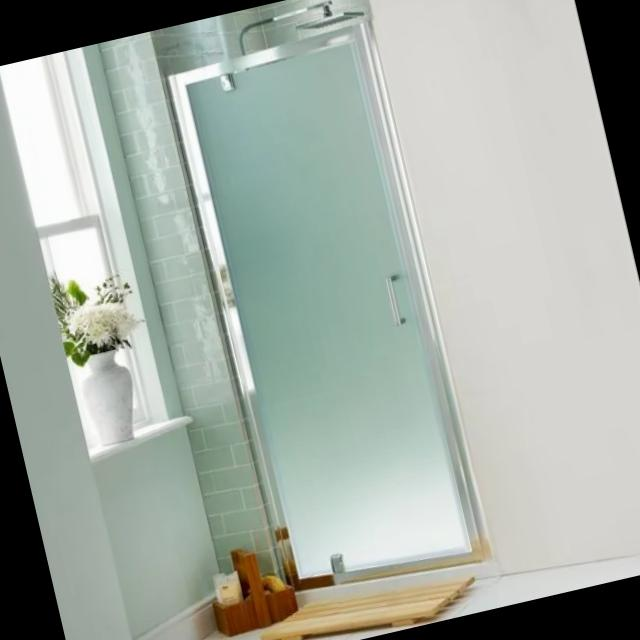door: (167, 20, 499, 609)
